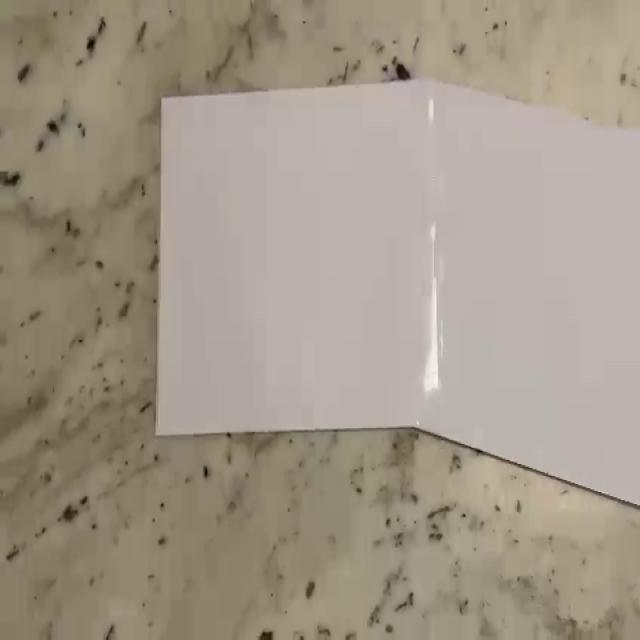road: (155, 79, 640, 507)
